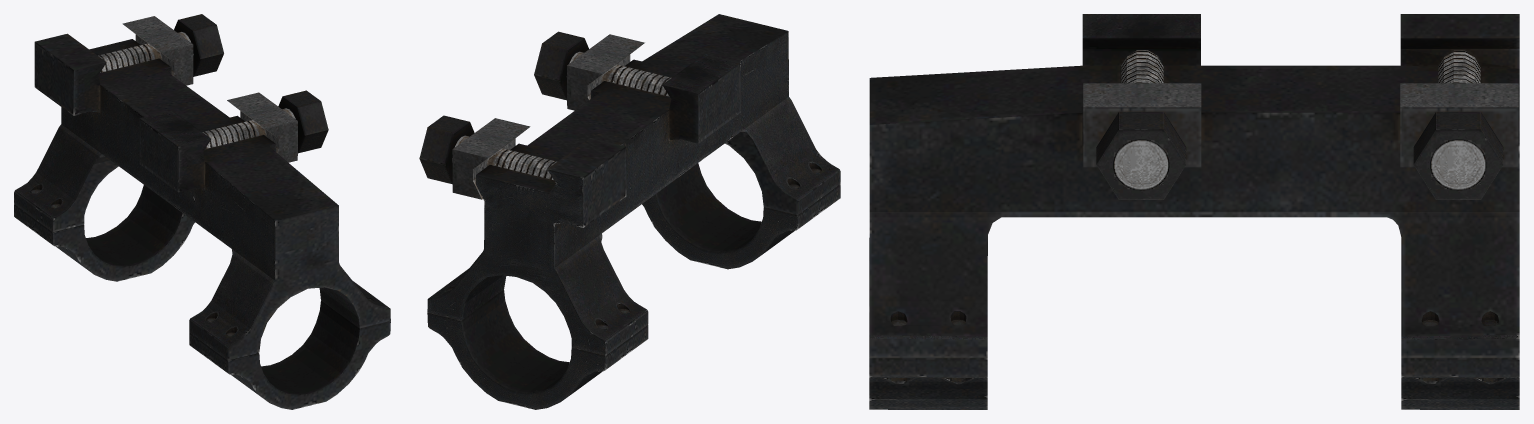
3 renders of one model, left to right at view 1: azimuth 30°, elevation 25°; view 2: azimuth 150°, elevation 25°; view 3: azimuth 270°, elevation 25°, orthographic. The views are drawn at different scales.
Visible parts, largest first — view 1: TW_57c69dd424597774c03b7bbc_PZ_Import; view 2: TW_57c69dd424597774c03b7bbc_PZ_Import; view 3: TW_57c69dd424597774c03b7bbc_PZ_Import.
Boxes of the visible parts, box(x1,y1,x2,y2) form: TW_57c69dd424597774c03b7bbc_PZ_Import: box(14, 14, 390, 409); TW_57c69dd424597774c03b7bbc_PZ_Import: box(419, 14, 840, 409); TW_57c69dd424597774c03b7bbc_PZ_Import: box(869, 14, 1519, 409).
Bounding box in the file's own units: 0.03 × 0.0636 × 0.0364.
1 material, 1 textured.
